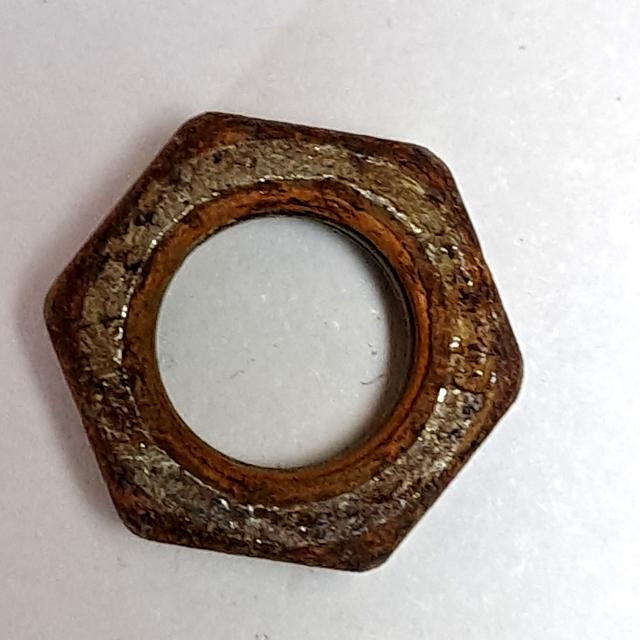Rust: (27, 85, 539, 595)
